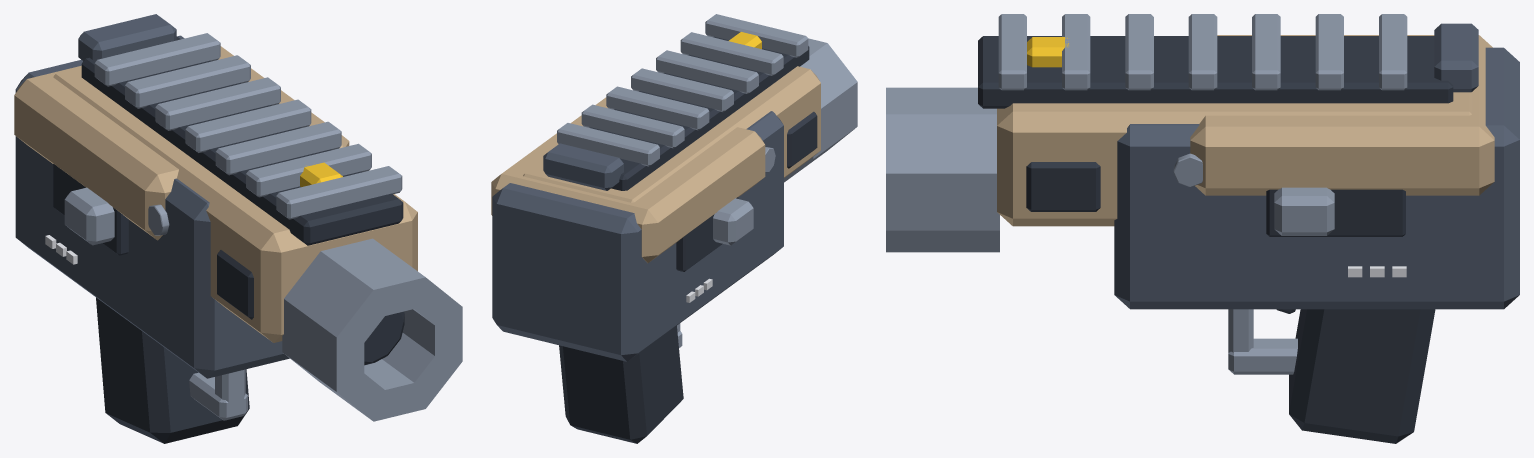
File: Military_HG_v003.fbx
3 views of the same model, side by side, from view 1: azimuth 30°, elevation 25°; view 2: azimuth 150°, elevation 25°; view 3: azimuth 270°, elevation 25° (orthographic). The views are drawn at different scales.
Visible parts, largest first — view 1: Military_HG__RECEIVER_MESH; view 2: Military_HG__RECEIVER_MESH; view 3: Military_HG__RECEIVER_MESH.
Part boxes in pixels (box(x1,y1,x2,y2)): Military_HG__RECEIVER_MESH: box(14, 14, 462, 443); Military_HG__RECEIVER_MESH: box(491, 14, 857, 443); Military_HG__RECEIVER_MESH: box(886, 14, 1519, 443).
Size of the model in its own units: 0.475 by 0.6669 by 1.
